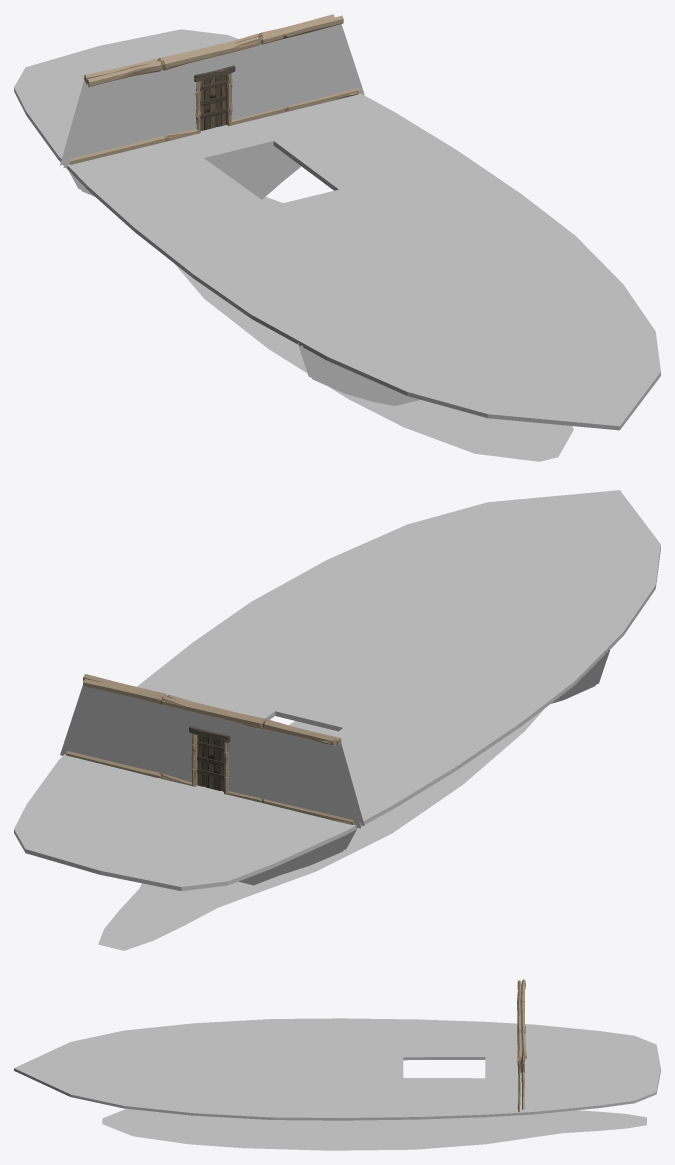
File: SM_Veh_Ship_L_Floor_03.fbx
The picture shows the model from 3 angles, top to bottom: view 1: azimuth 30°, elevation 25°; view 2: azimuth 150°, elevation 25°; view 3: azimuth 270°, elevation 25°; orthographic projection. The views are drawn at different scales.
Visible parts, largest first — view 1: SM_Veh_Ship_L_Floor_03, SM_Veh_Ship_L_Floor_03_Door; view 2: SM_Veh_Ship_L_Floor_03, SM_Veh_Ship_L_Floor_03_Door; view 3: SM_Veh_Ship_L_Floor_03.
Part boxes in pixels (left/top/right/bottom): SM_Veh_Ship_L_Floor_03: left=14, top=14, right=660, bottom=461; SM_Veh_Ship_L_Floor_03_Door: left=200, top=75, right=226, bottom=131; SM_Veh_Ship_L_Floor_03: left=14, top=490, right=660, bottom=950; SM_Veh_Ship_L_Floor_03_Door: left=197, top=735, right=224, bottom=791; SM_Veh_Ship_L_Floor_03: left=14, top=979, right=660, bottom=1150.
Size of the model in its own units: 1209 by 596 by 3317.
